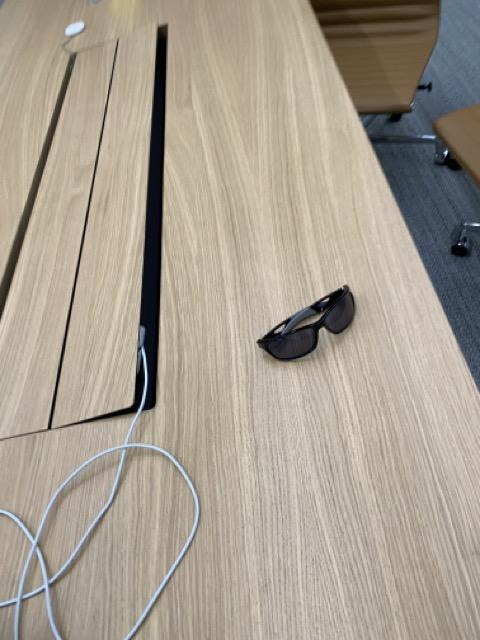Sunglasses: (257, 284, 358, 362)
